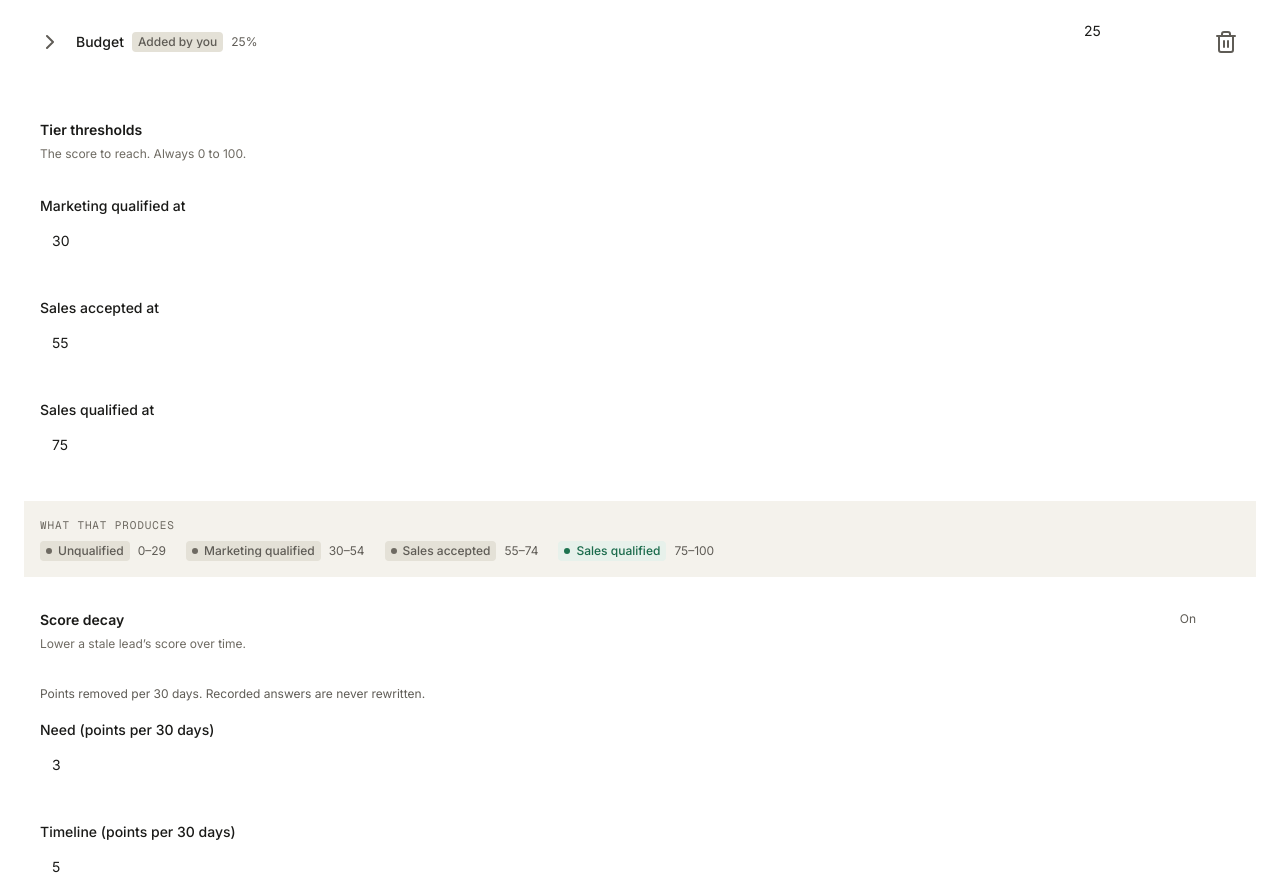
Scenario: the dirty / save contract › shows the bar on an edit, saves the rubric, and confirms
(page scrolled)
Step 1. Replace the text in the number field labelled "Sales qualified at" with "85" → (640, 444), box [40,427,1240,461]
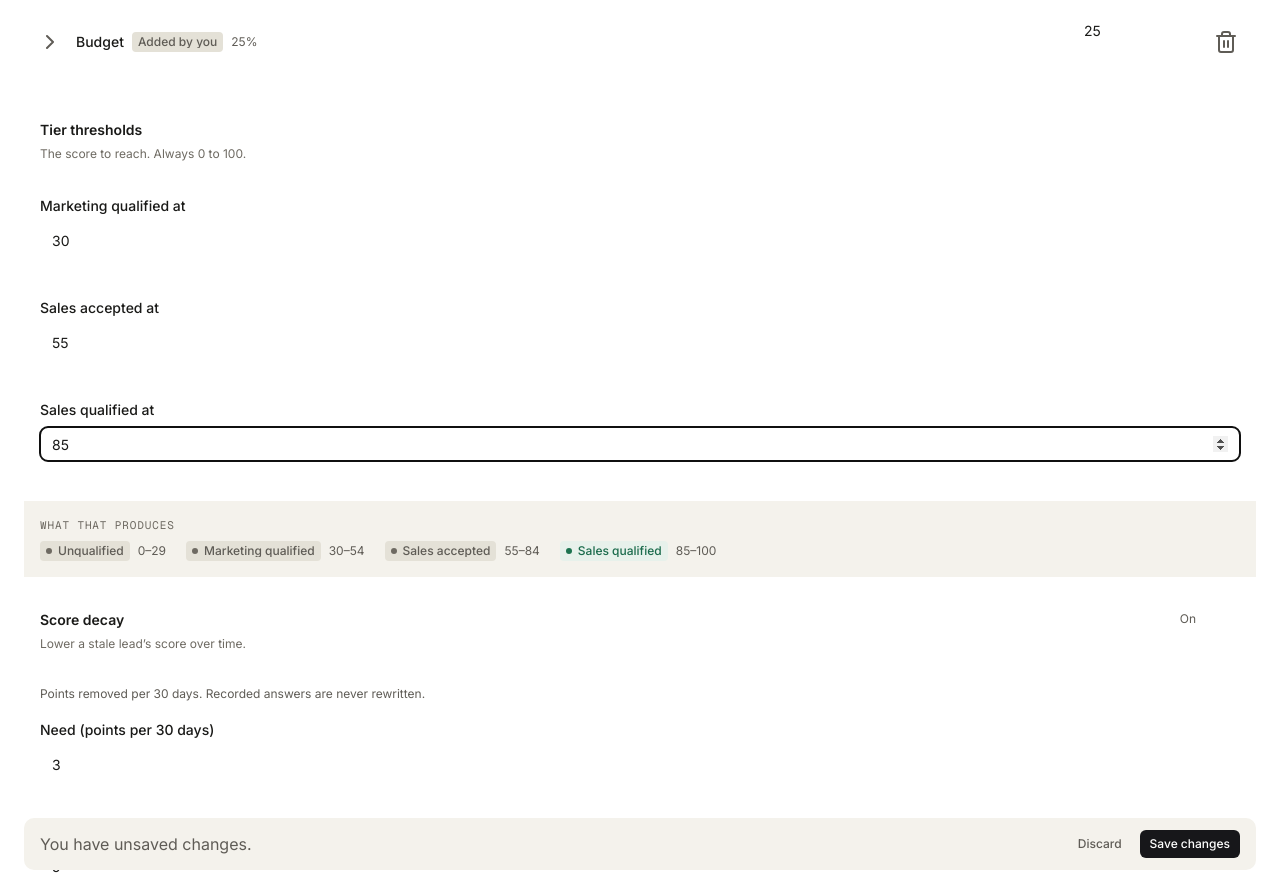
Expected: the text "You have unsaved changes." is shown, [40,834,252,854]
Step 2. Click the button "Save changes" → (1190, 844), box [1140,830,1240,858]
(page scrolled)
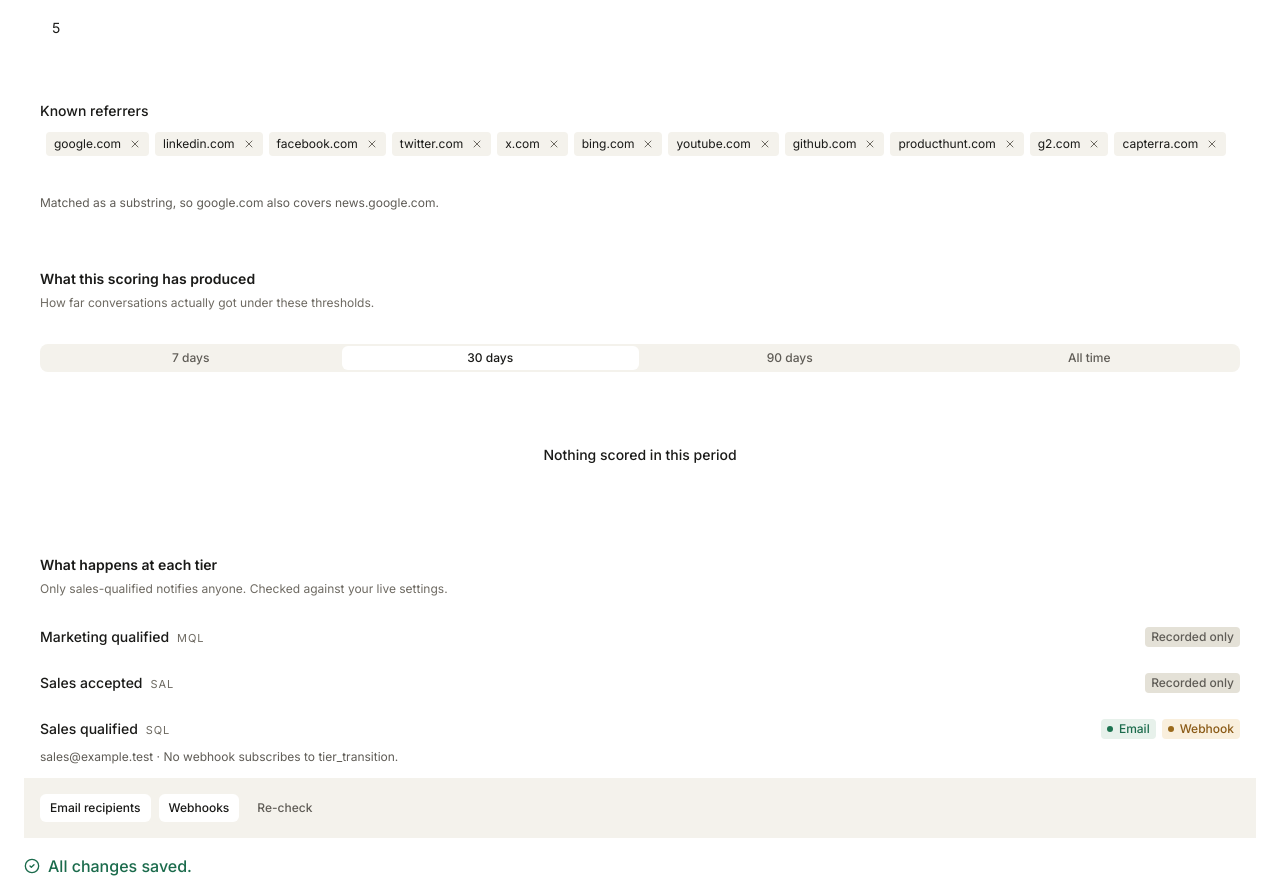
Expected: the text "All changes saved." is shown, [24,856,192,876]
